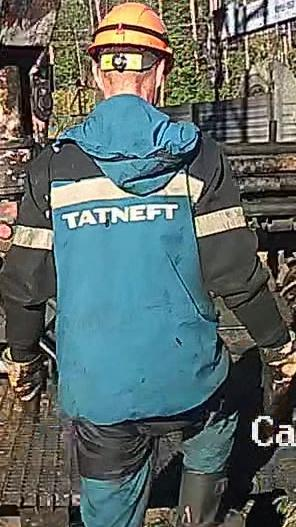gloves: (257, 331, 296, 426), (0, 345, 45, 424)
helmet: (86, 1, 177, 75)
vest: (33, 116, 234, 426)
